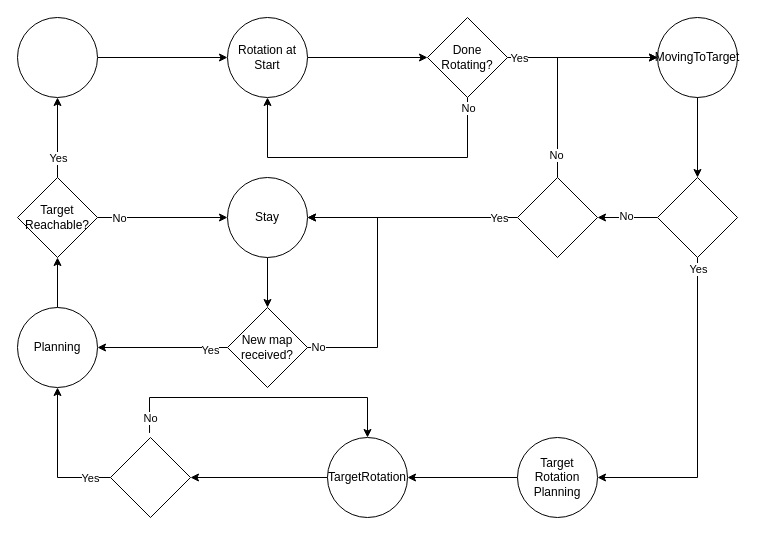
This 757x535 diagram has some shape labels left out. The box of each missing label's shape, as (x1, y1, x2, y2) in pixels:
Collision Detected?: (516, 176, 598, 258)
Done at Target?: (110, 436, 190, 518)
Reached Target?: (656, 176, 738, 258)
Rotation Planning at Start: (16, 16, 98, 98)
